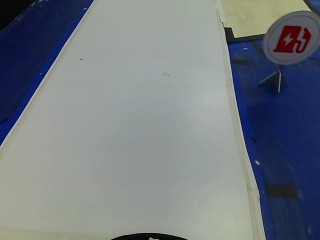battery: (259, 11, 318, 63)
